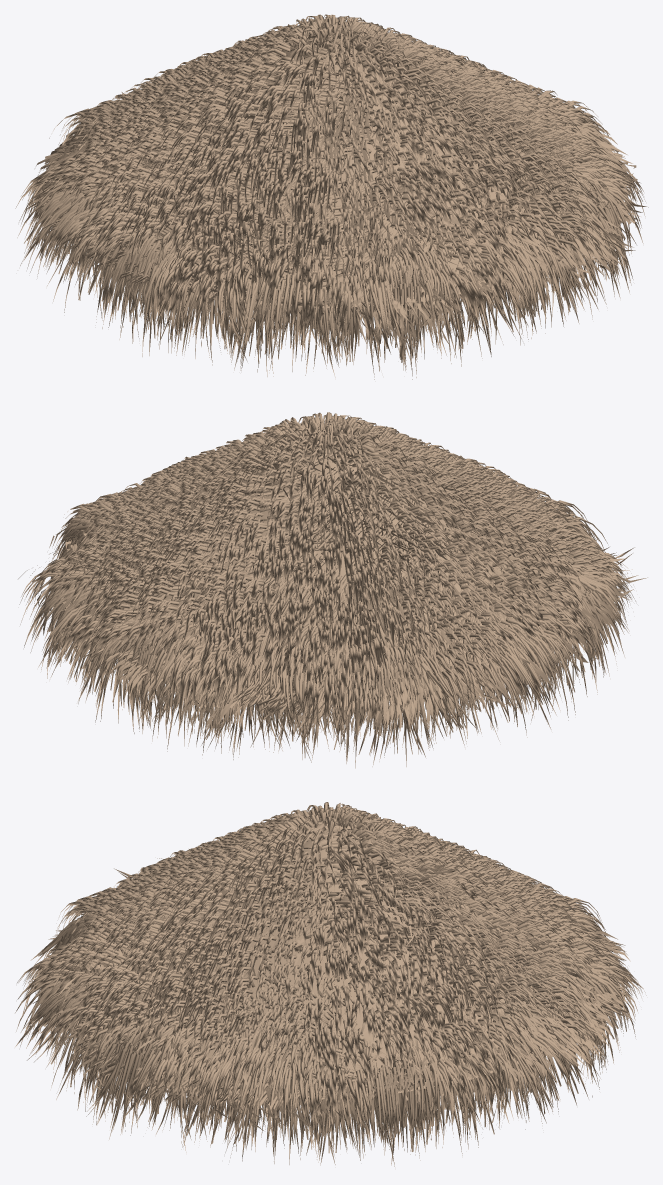
Rendered from rumah honai final.fbx.
The picture shows the model from 3 angles, top to bottom: view 1: azimuth 30°, elevation 25°; view 2: azimuth 150°, elevation 25°; view 3: azimuth 270°, elevation 25°; orthographic projection. The views are drawn at different scales.
Visible parts, largest first — view 1: Object001, Grass, Roof_inner; view 2: Object001, Grass, Roof_inner; view 3: Object001, Grass, Roof_inner.
Part boxes in pixels (x1,y1,x2,y2): Object001: (15, 14, 645, 379); Grass: (21, 24, 648, 353); Roof_inner: (92, 38, 605, 308); Object001: (19, 412, 635, 768); Grass: (18, 429, 647, 742); Roof_inner: (68, 438, 575, 698); Object001: (15, 802, 642, 1166); Grass: (26, 819, 646, 1133); Roof_inner: (77, 828, 566, 1096).
Bounding box in the file's own units: 1007 × 433 × 1007.
